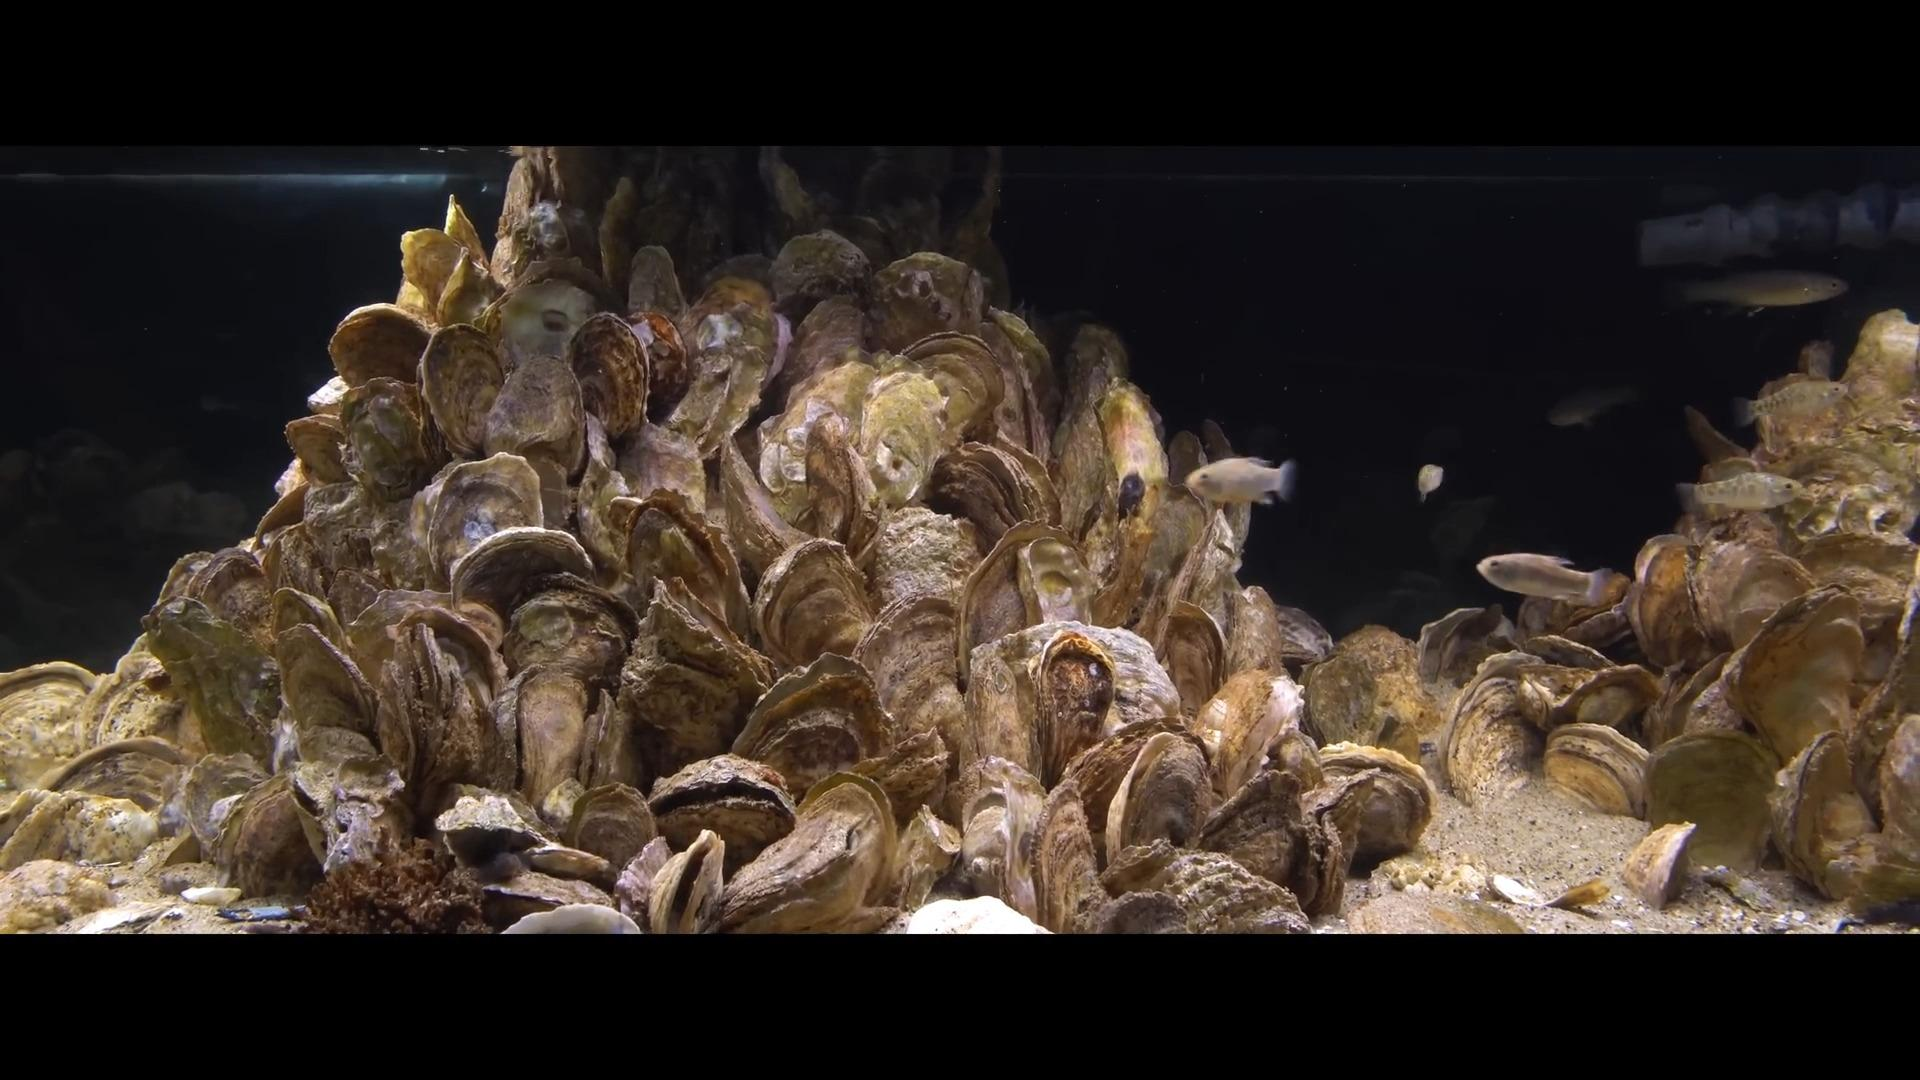Oyster: (741, 248, 1051, 563), (1626, 564, 1915, 902), (1017, 699, 1337, 934), (3, 646, 235, 906), (965, 615, 1175, 779), (712, 770, 903, 935), (616, 584, 771, 771), (1724, 582, 1873, 777), (1747, 319, 1920, 476), (138, 591, 287, 765), (377, 615, 498, 812), (727, 646, 887, 791), (752, 360, 886, 529), (955, 514, 1093, 674), (1080, 368, 1171, 608), (616, 485, 749, 645), (1640, 731, 1785, 869), (1302, 624, 1439, 767), (663, 286, 778, 456), (1058, 717, 1191, 861), (852, 587, 965, 748), (645, 752, 794, 873), (496, 568, 638, 694), (1680, 531, 1813, 663), (752, 533, 876, 674), (414, 452, 546, 584), (1771, 727, 1871, 897), (1441, 647, 1544, 803), (491, 661, 600, 806), (1311, 746, 1436, 873), (1187, 764, 1309, 890), (890, 328, 1011, 456), (1441, 665, 1551, 806), (1125, 852, 1313, 934), (953, 757, 1050, 916), (1047, 352, 1121, 558), (454, 522, 600, 625), (219, 770, 332, 902), (270, 613, 377, 752), (1192, 666, 1300, 802), (720, 431, 819, 579), (855, 365, 955, 510), (298, 760, 410, 886), (609, 410, 712, 547), (868, 502, 988, 618), (477, 347, 584, 476), (1850, 580, 1919, 777), (836, 723, 953, 837), (491, 148, 588, 285), (928, 442, 1042, 558), (0, 665, 103, 791), (417, 320, 509, 460), (1129, 475, 1213, 624), (865, 249, 981, 353), (491, 260, 601, 368), (338, 376, 433, 500), (1776, 440, 1916, 524), (935, 156, 1010, 310), (1031, 777, 1104, 932), (1787, 525, 1916, 612), (570, 311, 654, 444), (37, 737, 185, 810), (1540, 723, 1655, 815), (1630, 538, 1708, 674), (431, 793, 554, 878), (173, 750, 265, 864), (326, 302, 438, 394), (397, 215, 487, 326), (1153, 599, 1229, 728), (297, 475, 386, 584), (559, 782, 657, 882), (1522, 576, 1642, 657), (90, 662, 191, 756), (642, 825, 728, 936), (793, 767, 898, 855), (855, 153, 948, 249), (1352, 882, 1526, 934), (575, 429, 634, 579), (769, 227, 876, 310), (1545, 662, 1663, 737), (479, 869, 624, 928), (1085, 510, 1154, 636), (0, 858, 111, 932), (1220, 572, 1286, 688), (177, 545, 272, 625), (1841, 310, 1920, 406), (1621, 819, 1702, 911), (889, 804, 960, 910), (1418, 604, 1507, 686), (1822, 837, 1920, 911), (1871, 711, 1920, 857), (626, 307, 691, 411), (575, 684, 636, 795), (1288, 807, 1348, 919), (0, 789, 76, 870), (613, 835, 676, 930), (762, 146, 825, 239), (281, 413, 356, 489), (903, 894, 1047, 934), (1098, 839, 1185, 898), (1263, 723, 1324, 806), (1088, 889, 1195, 935), (443, 193, 496, 284), (1841, 394, 1920, 455), (1515, 630, 1625, 674), (626, 243, 686, 322), (1375, 853, 1482, 897), (1270, 603, 1335, 671), (1681, 407, 1753, 467), (524, 843, 615, 882), (695, 274, 774, 319), (71, 902, 177, 935), (1789, 492, 1846, 541), (1513, 675, 1555, 729), (146, 828, 195, 872), (1487, 873, 1540, 907), (305, 375, 348, 413)
